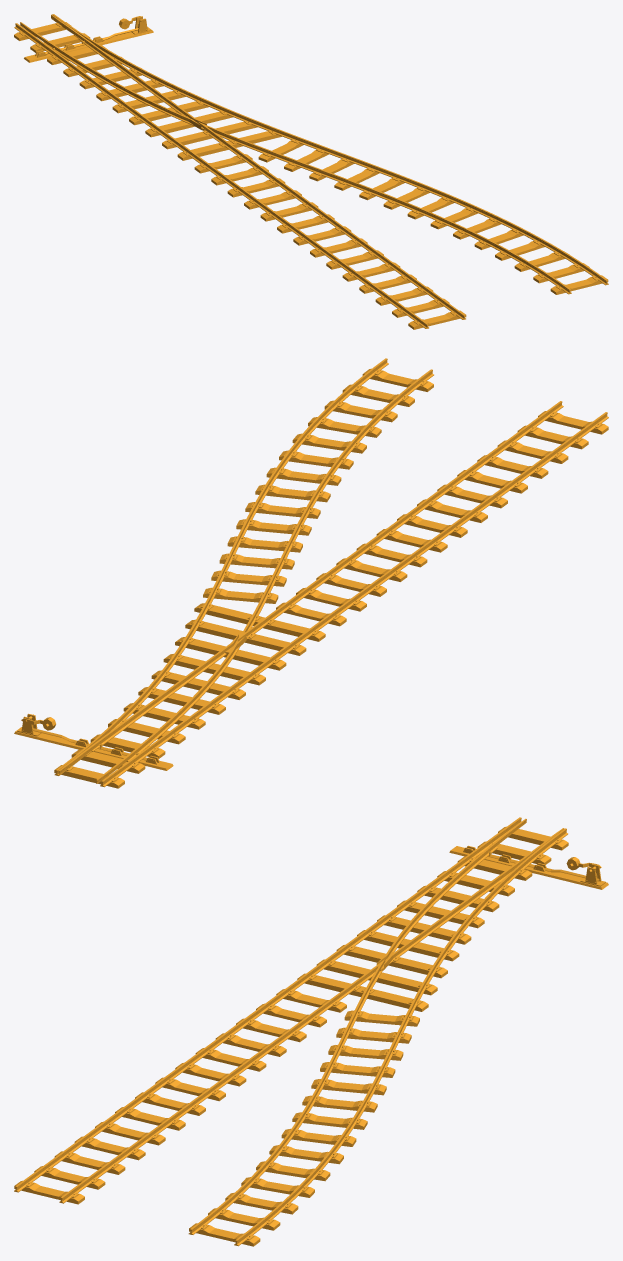
The model's file is SM_Train_Rail_Switch.fbx.
3 views of the same model, one above another, from view 1: azimuth 30°, elevation 25°; view 2: azimuth 150°, elevation 25°; view 3: azimuth 330°, elevation 25° (orthographic). The views are drawn at different scales.
Visible parts, largest first — view 1: SM_Train_Rail_Switch; view 2: SM_Train_Rail_Switch; view 3: SM_Train_Rail_Switch.
Boxes of the visible parts, x1,y1,x2,y2 form: SM_Train_Rail_Switch: [14, 14, 608, 329]; SM_Train_Rail_Switch: [14, 358, 608, 788]; SM_Train_Rail_Switch: [14, 817, 608, 1246].
Size of the model in its own units: 8.82 by 0.697 by 30.
